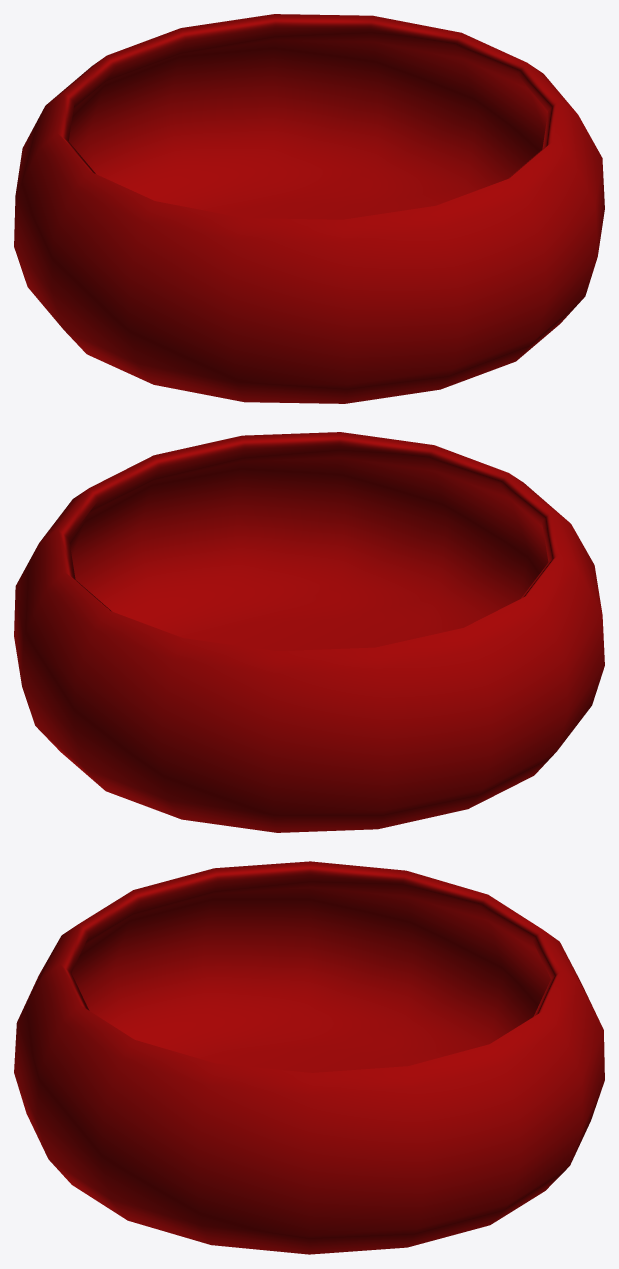
Rendered from SM_Bowl_02.fbx.
The picture shows the model from 3 angles, top to bottom: view 1: azimuth 30°, elevation 25°; view 2: azimuth 150°, elevation 25°; view 3: azimuth 270°, elevation 25°; orthographic projection.
Visible parts, largest first — view 1: SM_Bowl_02; view 2: SM_Bowl_02; view 3: SM_Bowl_02.
Boxes of the visible parts, x1,y1,x2,y2 form: SM_Bowl_02: (14, 14, 604, 403); SM_Bowl_02: (14, 432, 604, 832); SM_Bowl_02: (14, 861, 604, 1254).
Size of the model in its own units: 22.45 by 22.45 by 8.3.
